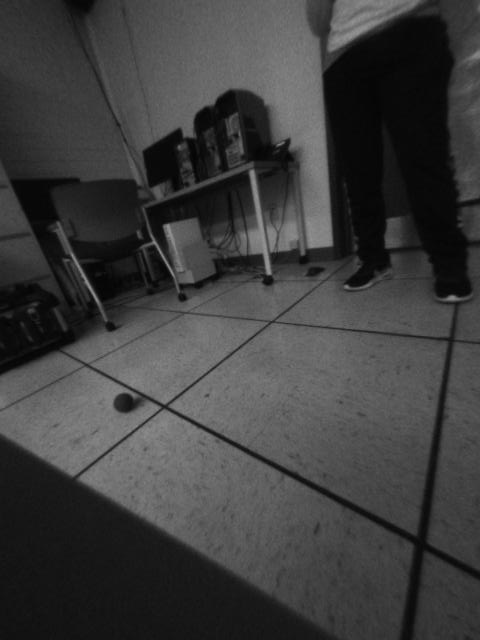dogtoy: (106, 387, 142, 416)
